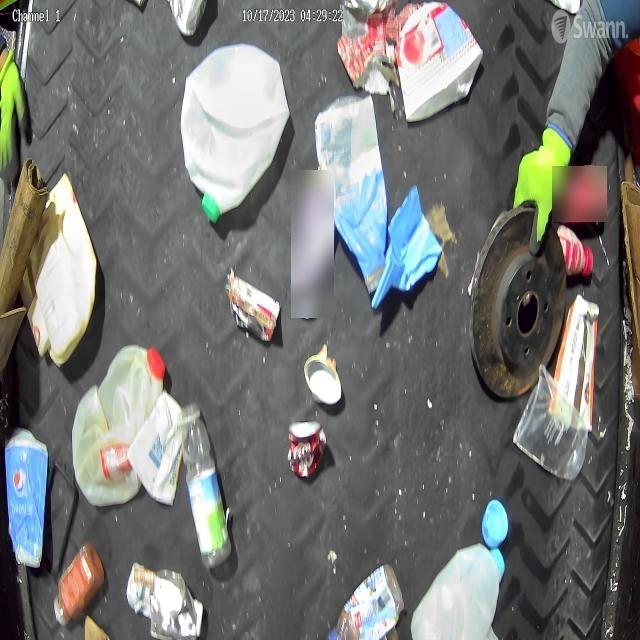milk_jug: (180, 41, 290, 222), (73, 343, 169, 508), (410, 541, 508, 640)
plastic_bottle: (182, 404, 232, 571), (326, 564, 406, 639)
